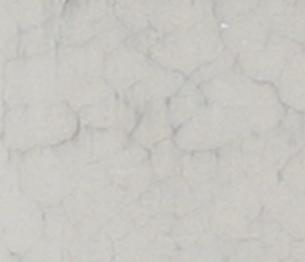fissura: (28, 68, 296, 246)
